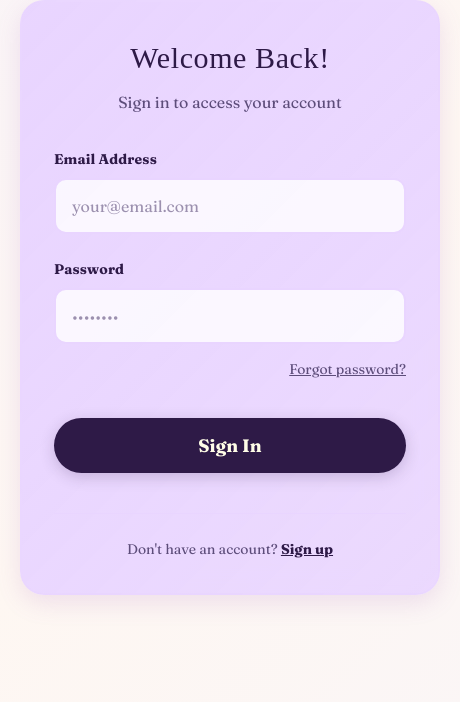
Test case: LoginForm › Form Validation › should show error when submitting empty form
Click the button "Sign In" at (230, 446), box left=54, top=418, right=406, bottom=473
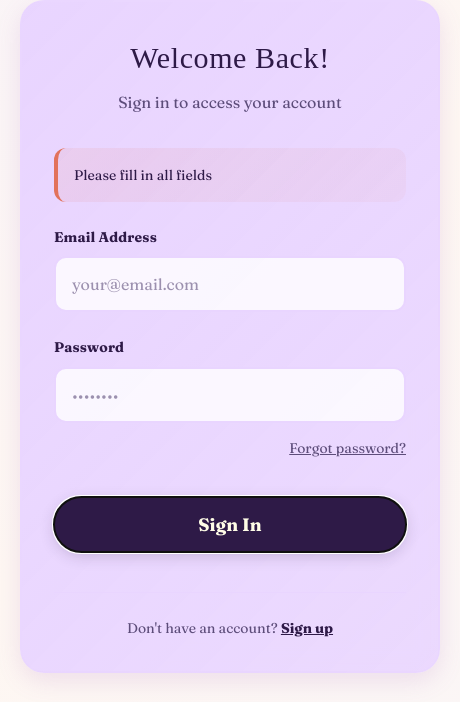
Now the text "Please fill in all fields" is shown, box left=54, top=148, right=406, bottom=202
